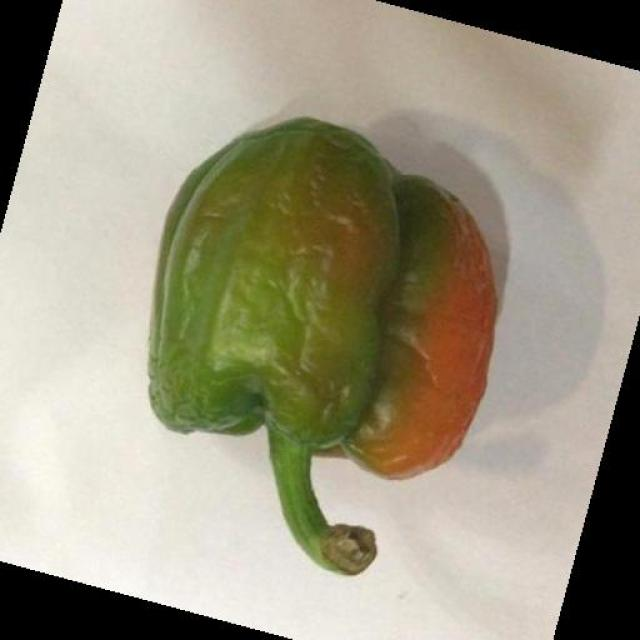Stale_Capsicum: (146, 107, 511, 506)
